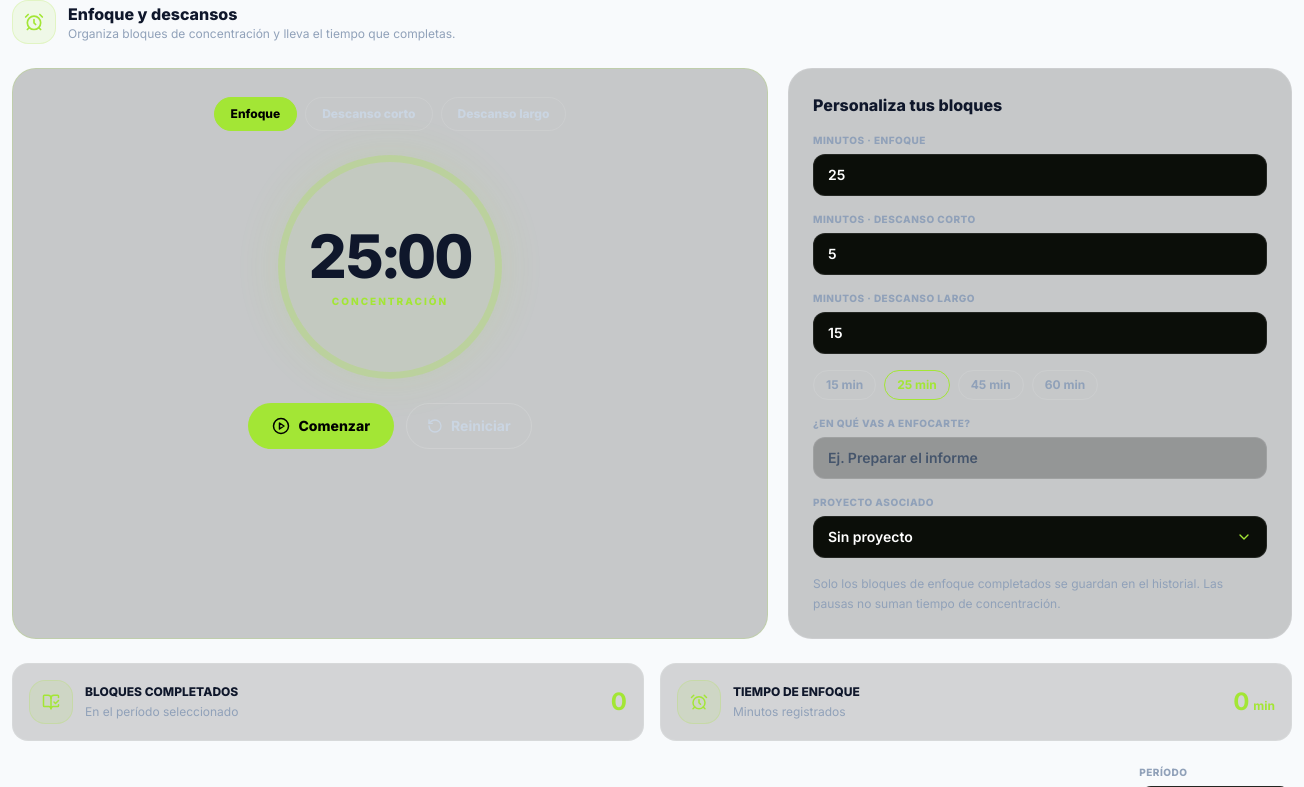
it: herramienta de enfoque › permite configurar, pausar y reiniciar un bloque
The image size is (1304, 787).
Replace the text in the number field labelled "Minutos · Enfoque" with "1" at (1040, 175), box [813,154,1267,196]
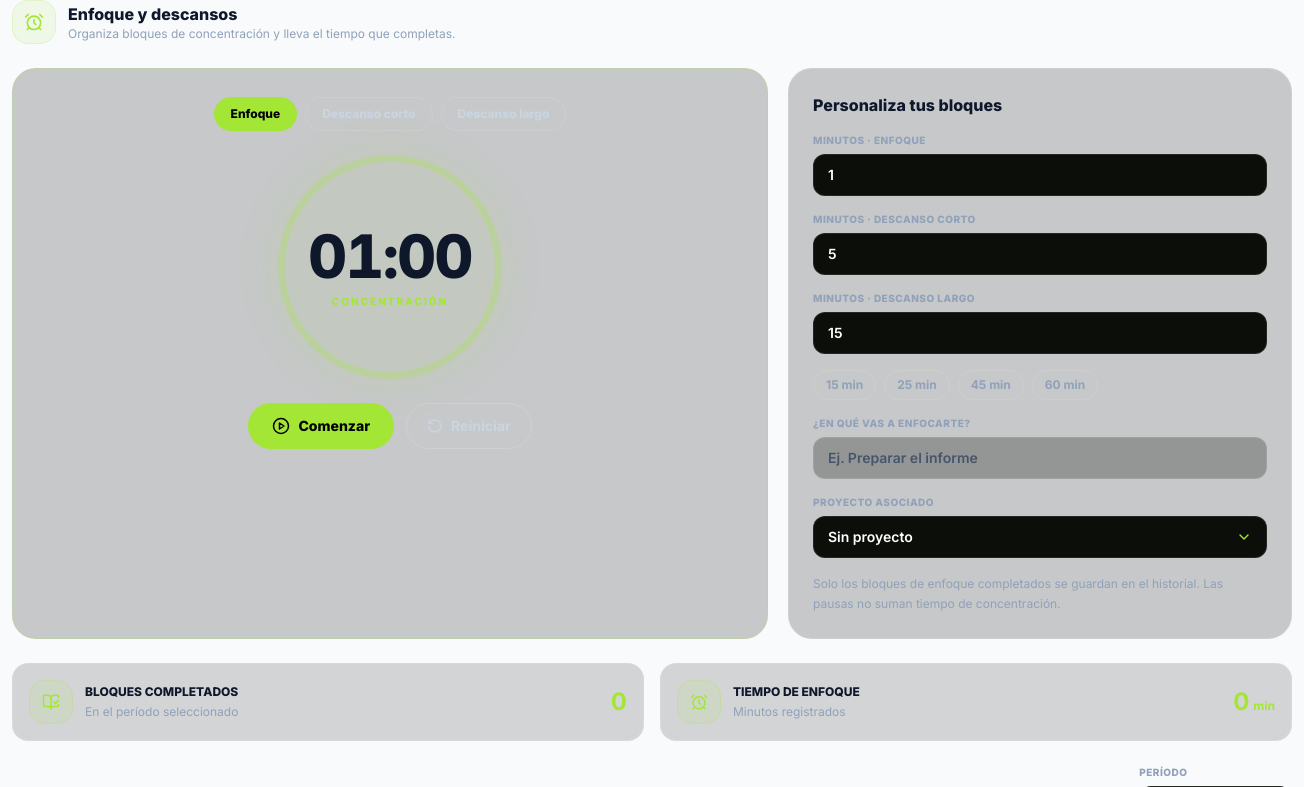
Click the button "Comenzar" at (321, 426), box [248,403,394,449]
Wait 1000 ms
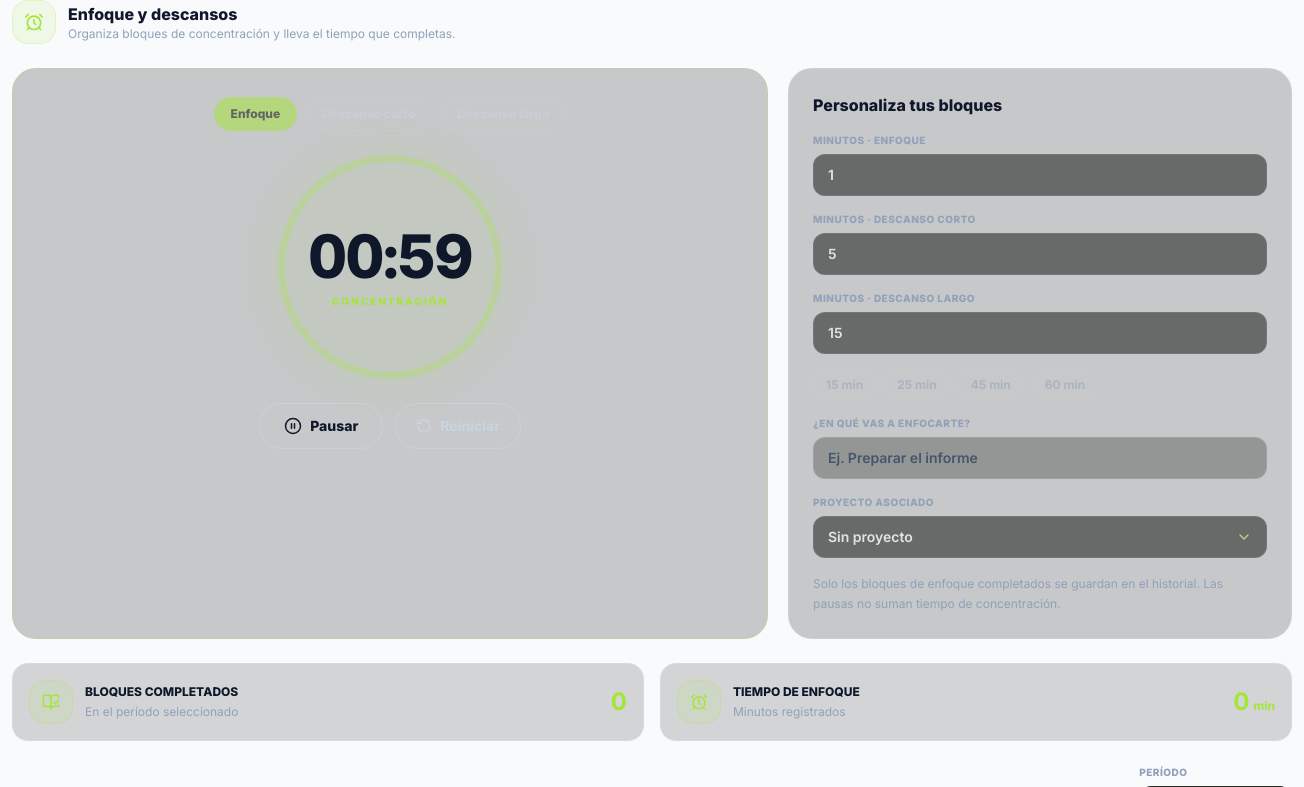
Click the button "Pausar" at (321, 426), box [259,403,383,449]
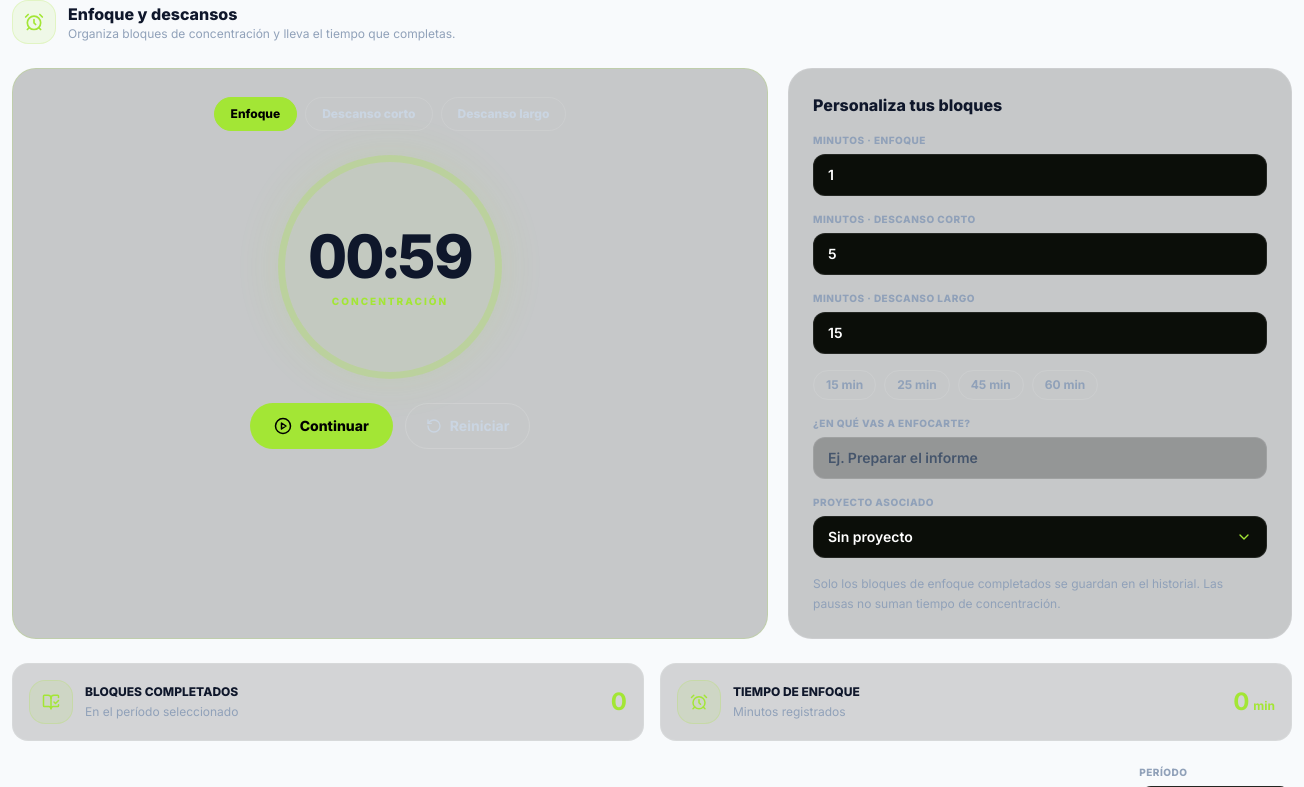
Result: the button "Continuar" is shown at [250,403,393,449]
Click the button "Reiniciar" at (468, 426), box [405,403,530,449]
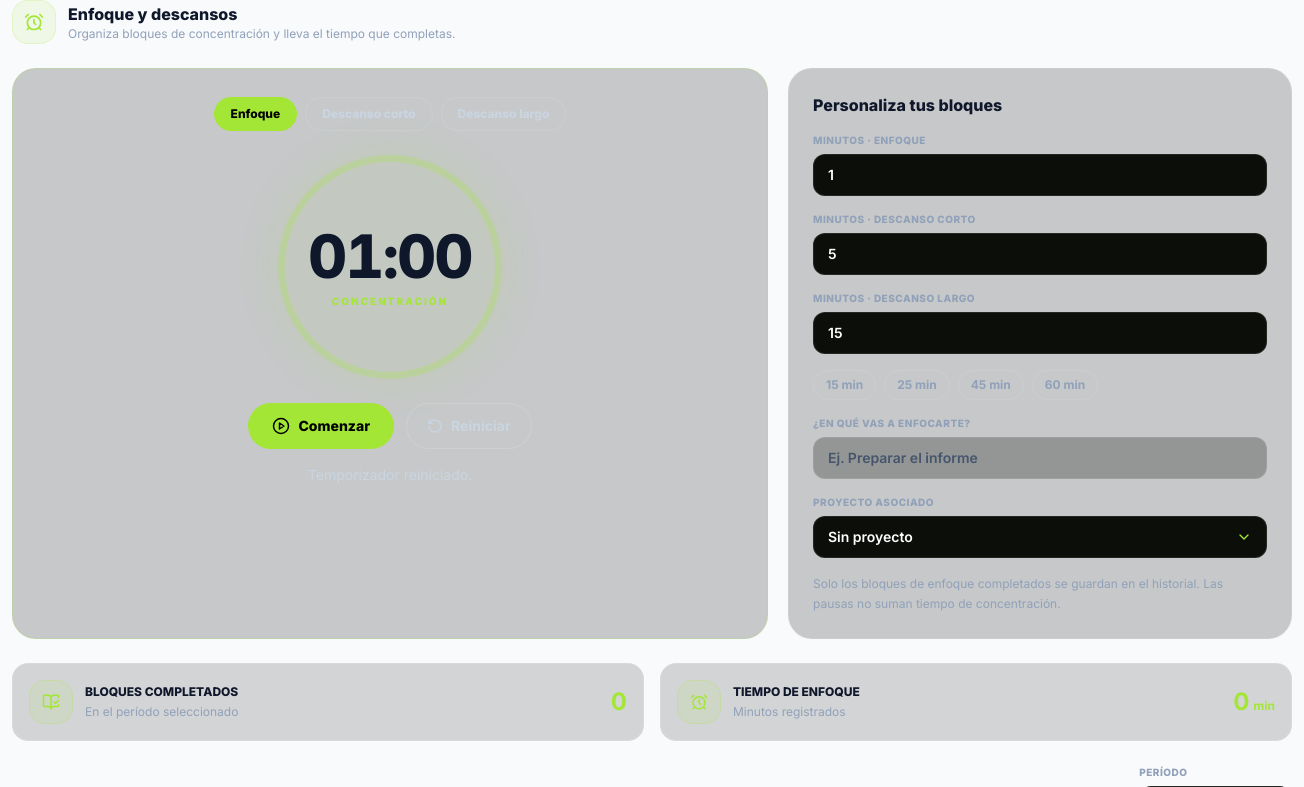
Result: the element named "Concentración: 01:00 restantes" is shown at [278,155,502,379]
